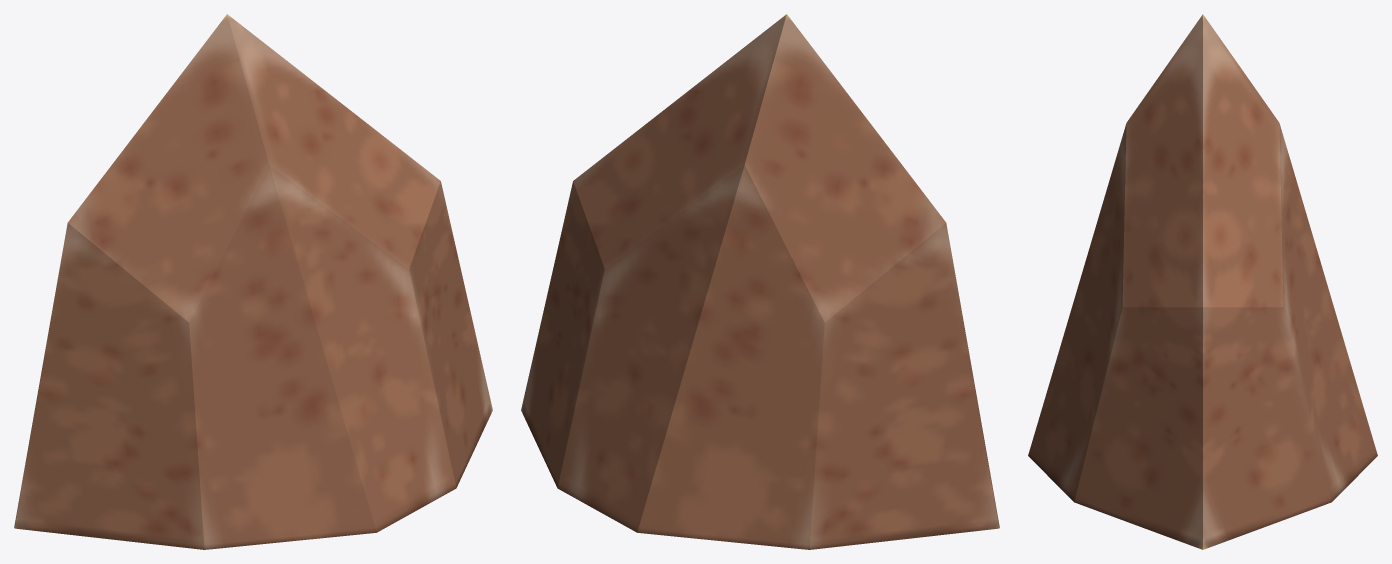
File: Rock_5.fbx
3 renders of one model, left to right at view 1: azimuth 30°, elevation 25°; view 2: azimuth 150°, elevation 25°; view 3: azimuth 270°, elevation 25°, orthographic. The views are drawn at different scales.
Visible parts, largest first — view 1: Rock_5; view 2: Rock_5; view 3: Rock_5.
Part boxes in pixels (<box>): Rock_5: <box>14,14,492,549</box>; Rock_5: <box>521,14,999,549</box>; Rock_5: <box>1028,14,1377,549</box>.
Bounding box in the file's own units: 294 × 271 × 205.
